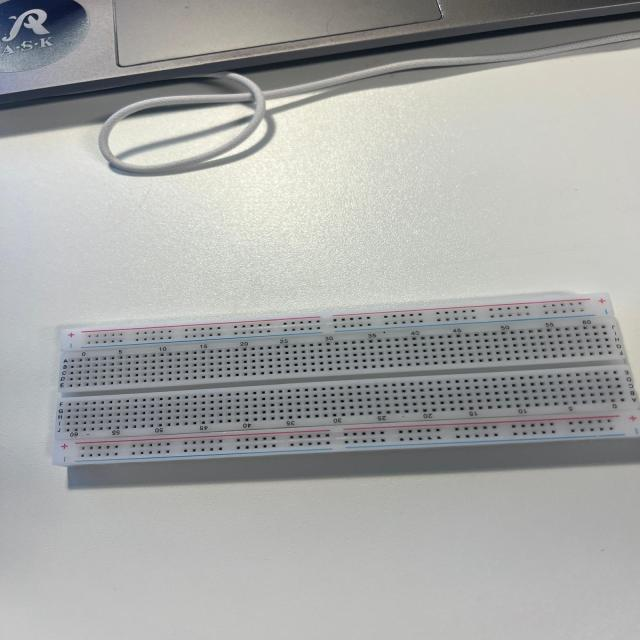BreadBoard: (55, 323, 637, 469)
